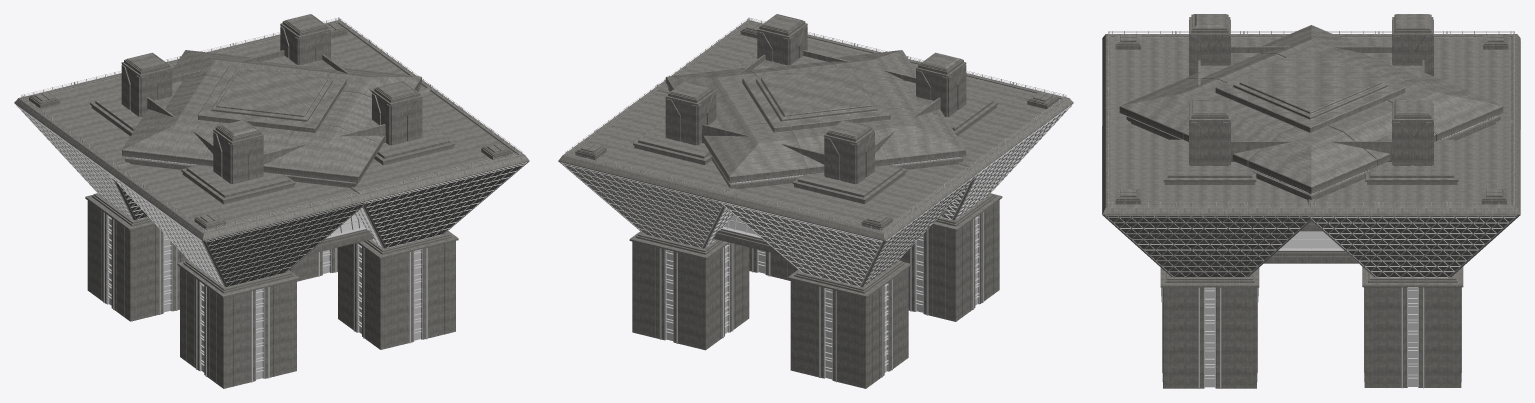
The model's file is Kitbash3D_Brutalist_Structure_Large01.fbx.
3 views of the same model, side by side, from view 1: azimuth 30°, elevation 25°; view 2: azimuth 150°, elevation 25°; view 3: azimuth 270°, elevation 25° (orthographic). The views are drawn at different scales.
Parts seen in each view (by area): view 1: XL_Bldg_F_Bldg_Top, XL_Bldg_F_ConcFormNoHoles, XL_Bldg_F_Bldg_Roof_Towers, XL_Bldg_F_Tri_Lattice, XL_Bldg_F_Mullions, XL_Bldg_F_Rails, XL_Bldg_F_WindowsGlass, XL_Bldg_F_Bldg_Center; view 2: XL_Bldg_F_Bldg_Top, XL_Bldg_F_ConcFormNoHoles, XL_Bldg_F_Bldg_Roof_Towers, XL_Bldg_F_Tri_Lattice, XL_Bldg_F_Mullions, XL_Bldg_F_WindowsGlass, XL_Bldg_F_Rails, XL_Bldg_F_Bldg_Center; view 3: XL_Bldg_F_Bldg_Top, XL_Bldg_F_Bldg_Roof_Towers, XL_Bldg_F_ConcFormNoHoles, XL_Bldg_F_Tri_Lattice, XL_Bldg_F_Mullions, XL_Bldg_F_WindowsGlass, XL_Bldg_F_Rails, XL_Bldg_F_Bldg_Center.
Boxes of the visible parts, bbox=[...] form: XL_Bldg_F_Bldg_Top: bbox=[14, 20, 529, 286]; XL_Bldg_F_ConcFormNoHoles: bbox=[85, 193, 458, 388]; XL_Bldg_F_Bldg_Roof_Towers: bbox=[34, 14, 506, 222]; XL_Bldg_F_Tri_Lattice: bbox=[15, 104, 527, 286]; XL_Bldg_F_Mullions: bbox=[103, 212, 427, 382]; XL_Bldg_F_Rails: bbox=[21, 17, 522, 232]; XL_Bldg_F_WindowsGlass: bbox=[109, 157, 420, 379]; XL_Bldg_F_Bldg_Center: bbox=[141, 210, 374, 254]; XL_Bldg_F_Bldg_Top: bbox=[558, 20, 1073, 287]; XL_Bldg_F_ConcFormNoHoles: bbox=[629, 193, 1002, 388]; XL_Bldg_F_Bldg_Roof_Towers: bbox=[581, 14, 1052, 222]; XL_Bldg_F_Tri_Lattice: bbox=[560, 104, 1072, 286]; XL_Bldg_F_Mullions: bbox=[659, 212, 983, 382]; XL_Bldg_F_WindowsGlass: bbox=[666, 157, 977, 379]; XL_Bldg_F_Rails: bbox=[565, 17, 1066, 232]; XL_Bldg_F_Bldg_Center: bbox=[713, 210, 946, 254]; XL_Bldg_F_Bldg_Top: bbox=[1102, 25, 1520, 276]; XL_Bldg_F_Bldg_Roof_Towers: bbox=[1120, 14, 1503, 196]; XL_Bldg_F_ConcFormNoHoles: bbox=[1160, 267, 1463, 388]; XL_Bldg_F_Tri_Lattice: bbox=[1102, 41, 1520, 277]; XL_Bldg_F_Mullions: bbox=[1162, 231, 1461, 388]; XL_Bldg_F_WindowsGlass: bbox=[1205, 231, 1417, 387]; XL_Bldg_F_Rails: bbox=[1108, 31, 1514, 206]; XL_Bldg_F_Bldg_Center: bbox=[1264, 221, 1358, 263].
Size of the model in its own units: 75.14 by 52.03 by 75.14.
